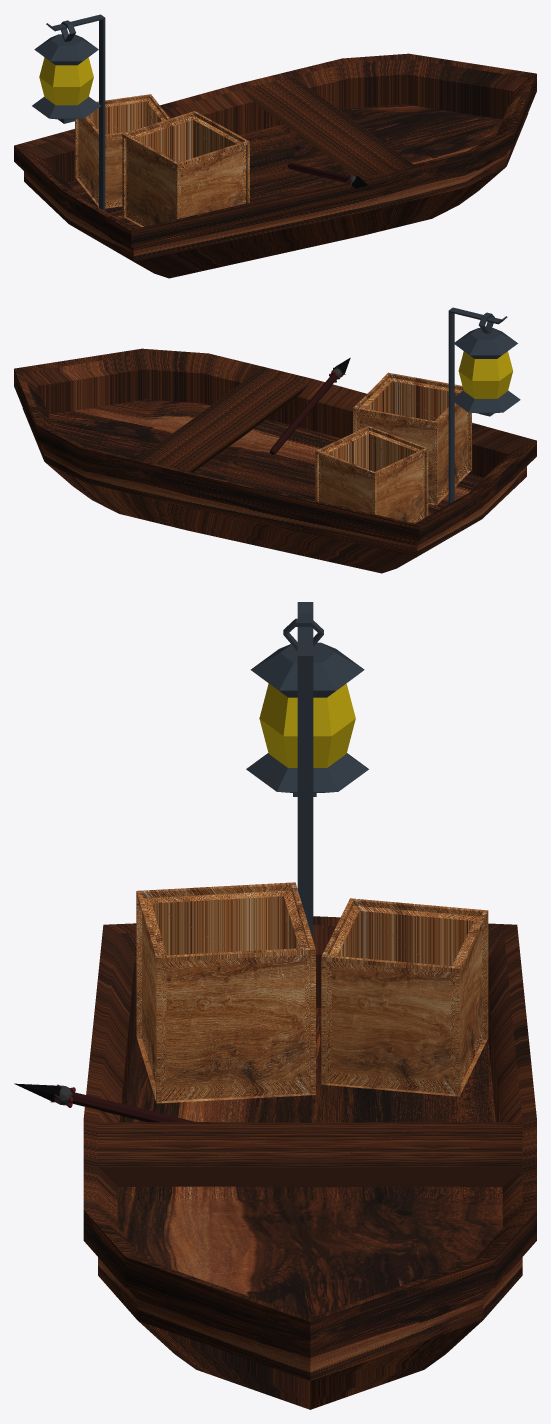
File: Boat.fbx
3 views of the same model, one above another, from view 1: azimuth 30°, elevation 25°; view 2: azimuth 150°, elevation 25°; view 3: azimuth 270°, elevation 25° (orthographic). The views are drawn at different scales.
Parts seen in each view (by area): view 1: Cube, Cube_1, Cube_2, lamp_wall_1, lamp_wall_0, Spear; view 2: Cube, Cube_2, Cube_1, lamp_wall_1, lamp_wall_0, Spear; view 3: Cube, Cube_1, Cube_2, lamp_wall_1, lamp_wall_0, Spear.
Part boxes in pixels (x1,y1,x2,y2): Cube: [14, 53, 536, 278]; Cube_1: [122, 111, 249, 227]; Cube_2: [75, 94, 169, 208]; lamp_wall_1: [32, 14, 105, 210]; lamp_wall_0: [39, 57, 93, 105]; Spear: [287, 163, 367, 189]; Cube: [14, 348, 536, 573]; Cube_2: [315, 426, 428, 523]; Cube_1: [353, 372, 471, 505]; lamp_wall_1: [448, 307, 520, 503]; lamp_wall_0: [458, 351, 512, 398]; Spear: [269, 357, 350, 454]; Cube: [83, 916, 536, 1409]; Cube_1: [136, 882, 315, 1103]; Cube_2: [321, 898, 488, 1096]; lamp_wall_1: [246, 602, 368, 940]; lamp_wall_0: [259, 683, 355, 767]; Spear: [14, 1083, 195, 1122].
Size of the model in its own units: 357 by 172 by 184.
11 materials, 2 textured.
